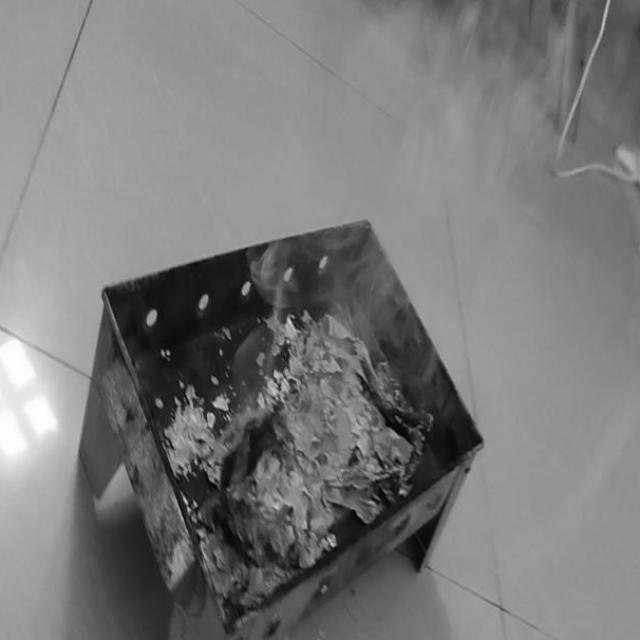fire: (379, 0, 559, 199)
